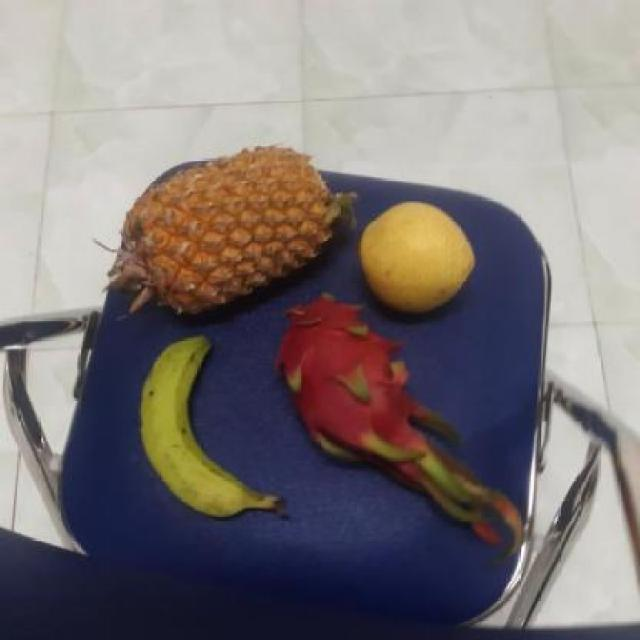banana: (134, 328, 281, 522)
dragon fruit: (274, 294, 420, 457)
pear: (356, 198, 482, 314)
pineapple: (118, 142, 347, 320)
